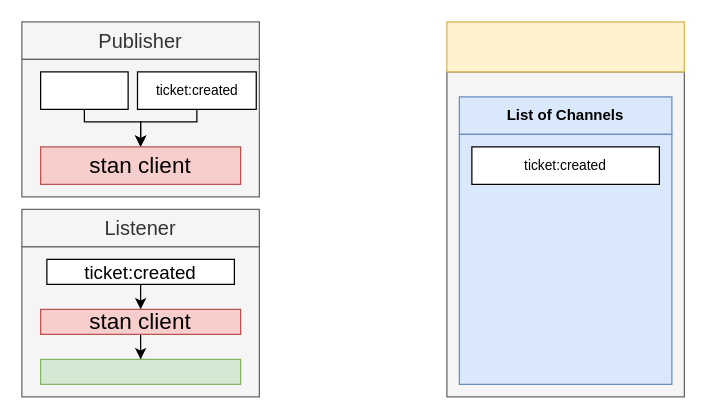
Image size: 706x419. Some labels were removed from this diagram. The centre of each missing label's shape, as x and y in pixels:
data: pixel 83 90
NATS Streaming: pixel 565 46
subscription: pixel 140 371
